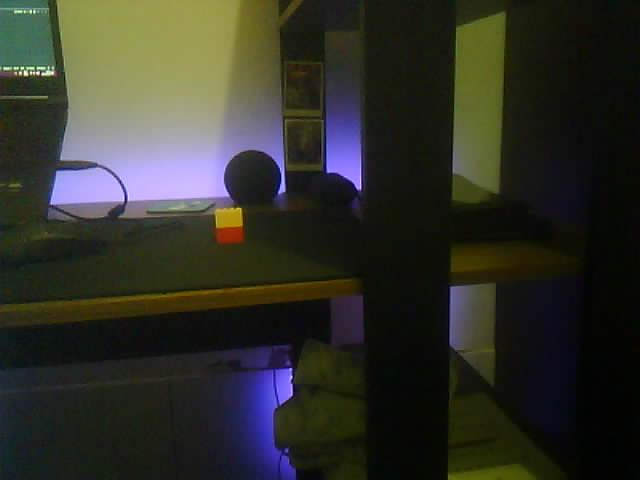lego: (213, 207, 246, 245)
